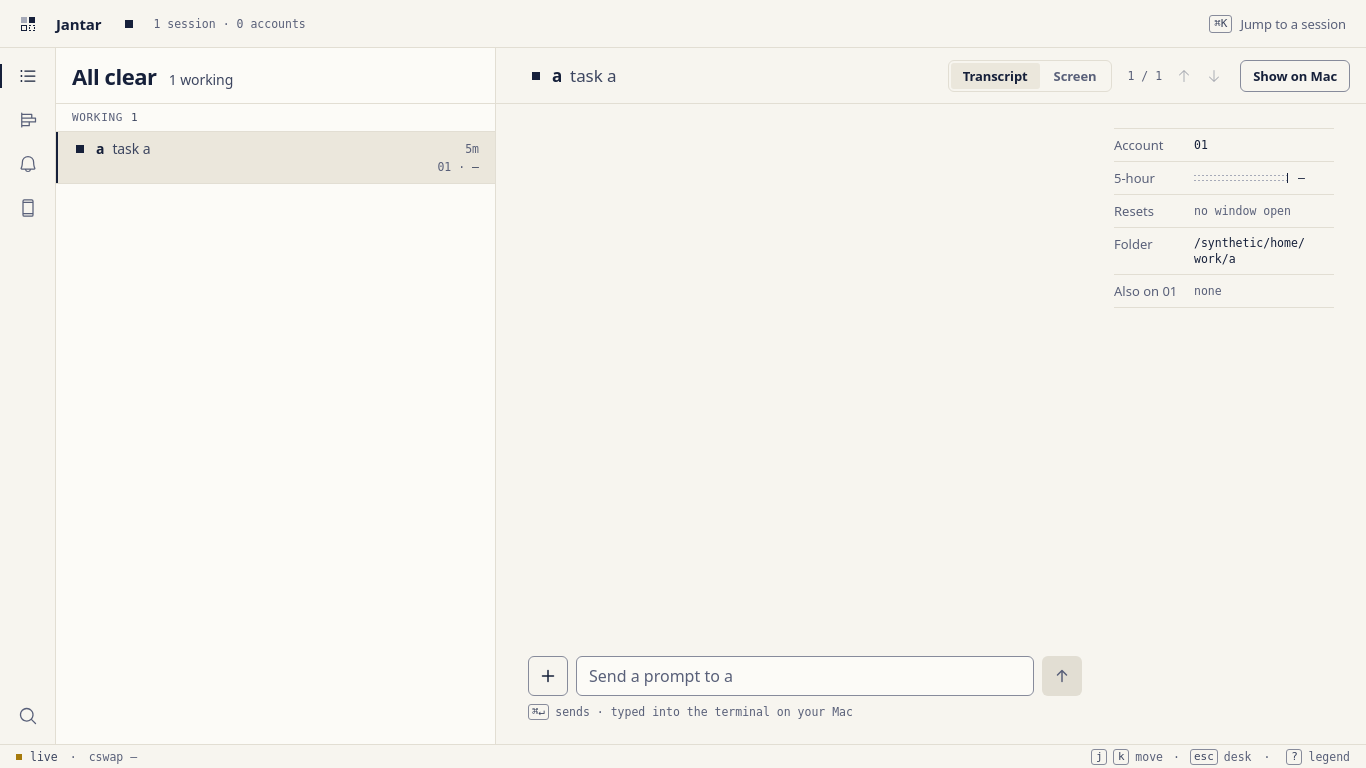
Scenario: the Screen tab with screenshots on (C8) › offers no tab switch while the Mac does not allow it, and says when the window is minimized
The width and height of the screenshot is (1366, 768).
Click the tab "Screen" at point(1075, 76), box 1042,62 -> 1108,88
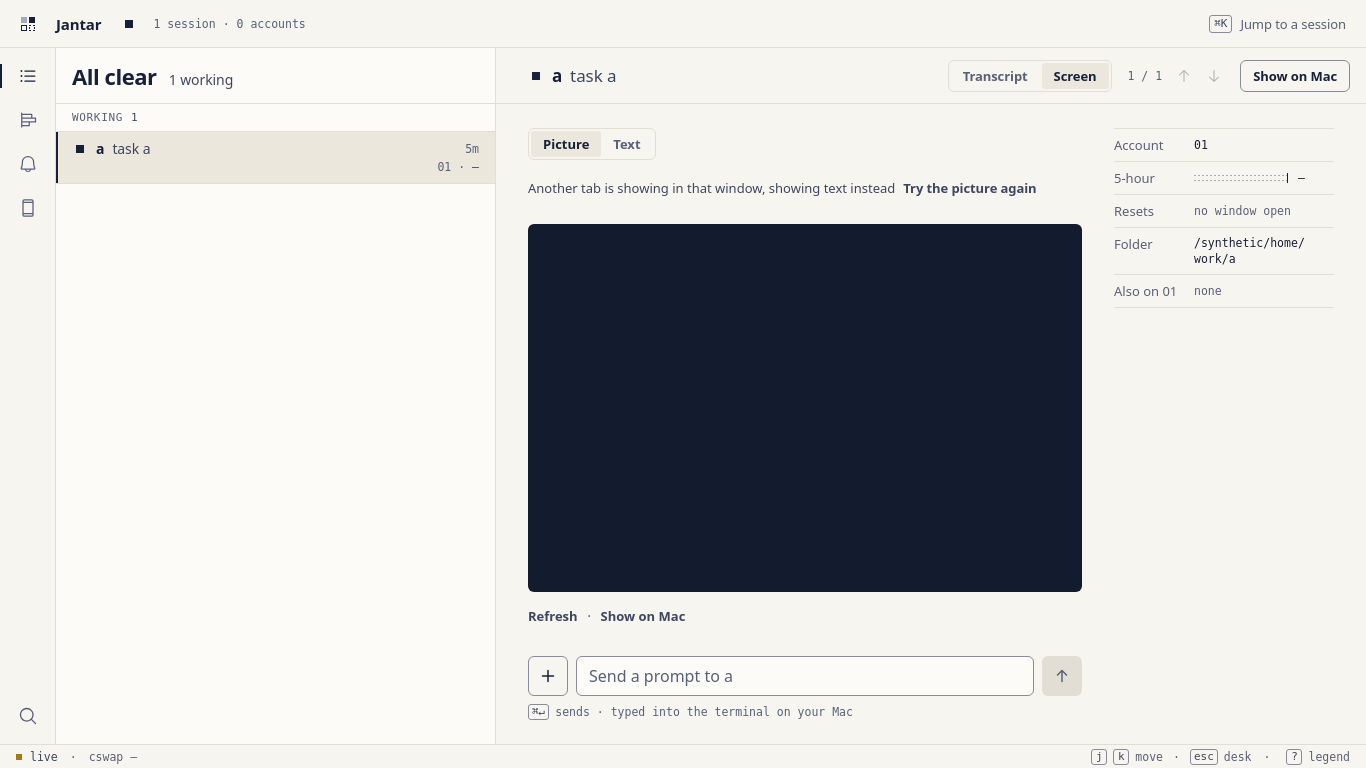
Expected: the button with aria-label "Show the screen as" is shown, 528,128 -> 656,160
Expected: the text "Another tab is showing in that window, showing text instead" is shown, 528,179 -> 895,197
Click the button "Try the picture again" at point(970, 188), box 895,176 -> 1045,200
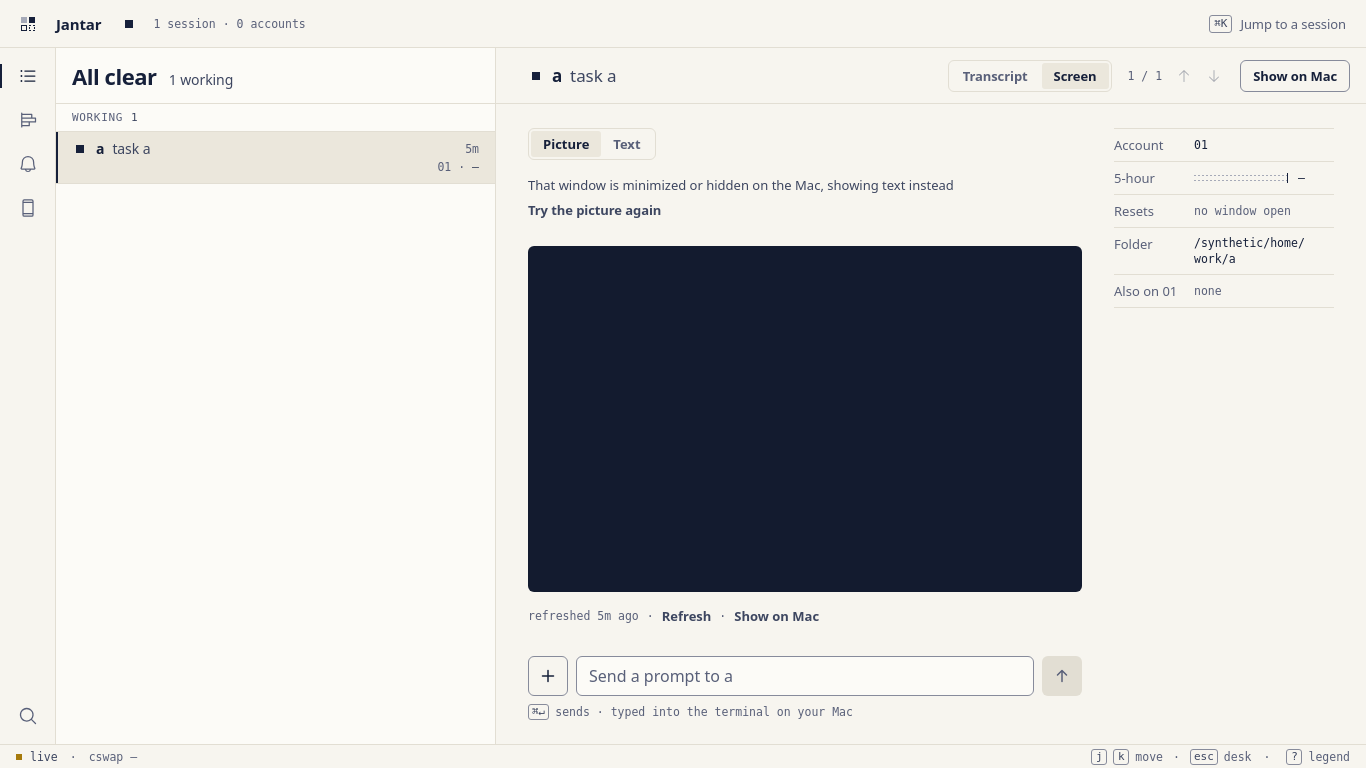
Expected: the text "That window is minimized or hidden on the Mac, showing text instead" is shown, 528,176 -> 954,194
